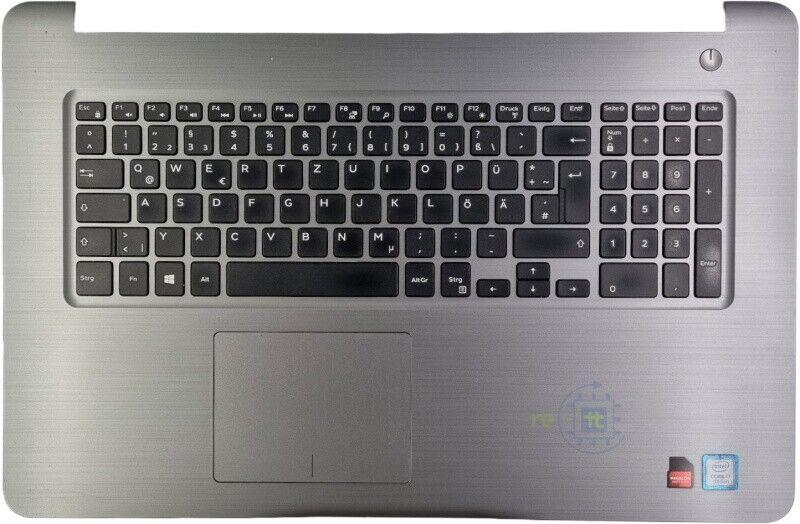0: (432, 124, 463, 155)
1: (110, 122, 141, 153)
2: (146, 123, 177, 153)
3: (181, 123, 213, 154)
4: (218, 123, 249, 154)
5: (253, 123, 285, 154)
6: (290, 123, 321, 154)
7: (325, 124, 356, 155)
8: (360, 124, 391, 155)
9: (396, 124, 428, 155)
a: (135, 191, 166, 222)
accent: (504, 123, 536, 154)
ae: (493, 192, 525, 223)
alt-left: (189, 260, 220, 296)
altgr-right: (403, 260, 434, 296)
b: (295, 226, 327, 257)
c: (224, 225, 255, 256)
caret: (74, 123, 105, 153)
comma: (403, 225, 435, 256)
d: (207, 191, 237, 222)
del: (540, 123, 590, 154)
e: (199, 157, 231, 188)
enter: (557, 157, 590, 223)
f: (242, 192, 273, 222)
g: (278, 192, 309, 222)
h: (313, 192, 345, 223)
hash: (529, 192, 558, 222)
i: (378, 158, 410, 188)
j: (349, 191, 381, 223)
k: (385, 192, 417, 223)
keyboard: (61, 90, 737, 308)
l: (420, 192, 452, 223)
less: (114, 225, 148, 256)
m: (367, 225, 399, 257)
minus: (474, 226, 507, 256)
n: (331, 226, 363, 257)
o: (414, 158, 445, 189)
oe: (457, 192, 488, 223)
p: (450, 158, 481, 189)
plus: (522, 158, 554, 189)
point: (439, 225, 471, 256)
q: (128, 157, 159, 187)
r: (235, 158, 267, 188)
s: (170, 192, 201, 222)
shift-left: (73, 224, 110, 256)
shift-lock: (73, 190, 130, 222)
shift-right: (510, 225, 590, 257)
space: (225, 259, 397, 296)
ss: (468, 124, 500, 155)
strg-left: (72, 258, 112, 296)
strg-right: (439, 260, 470, 296)
t: (271, 158, 303, 189)
tab: (74, 156, 123, 187)
u: (343, 158, 374, 189)
ue: (486, 157, 517, 189)
v: (260, 225, 292, 257)
w: (164, 157, 195, 188)
x: (188, 225, 220, 256)
y: (153, 225, 184, 256)
z: (307, 158, 339, 189)
